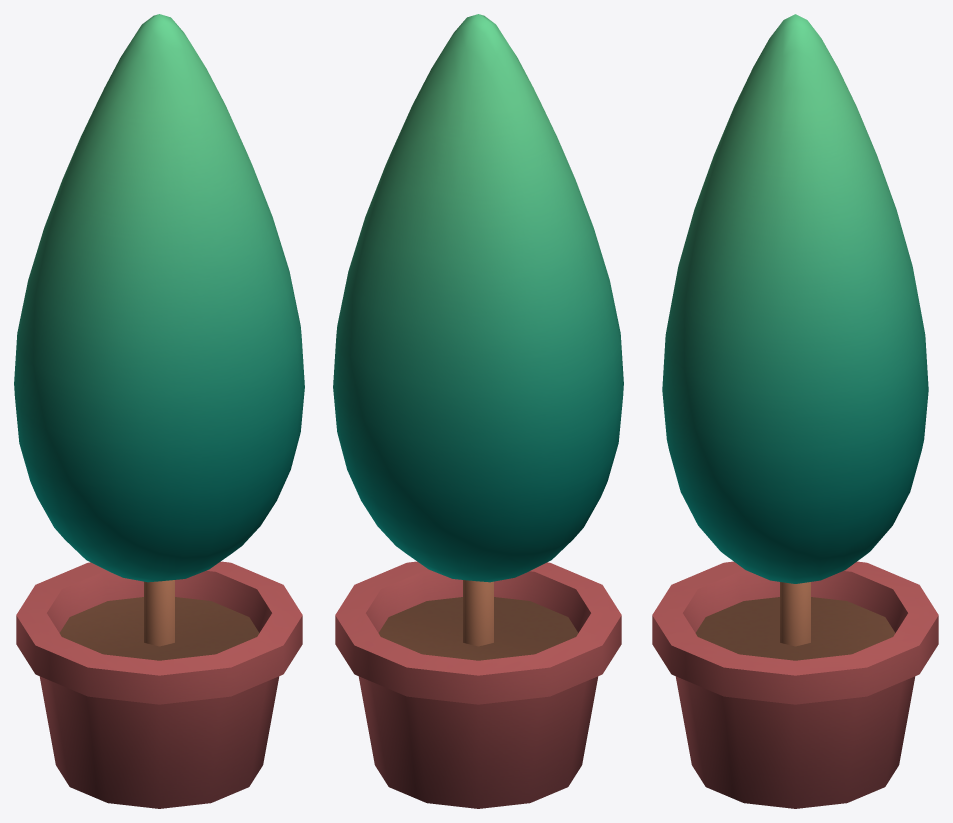
File: Plant_02.fbx
3 renders of one model, left to right at view 1: azimuth 30°, elevation 25°; view 2: azimuth 150°, elevation 25°; view 3: azimuth 270°, elevation 25°, orthographic.
Parts seen in each view (by area): view 1: Cylinder004; view 2: Cylinder004; view 3: Cylinder004.
Part boxes in pixels (x1,y1,x2,y2): Cylinder004: (14,14,304,808); Cylinder004: (333,14,623,808); Cylinder004: (652,14,938,808).
Bounding box in the file's own units: 84.46 × 239 × 82.46.
